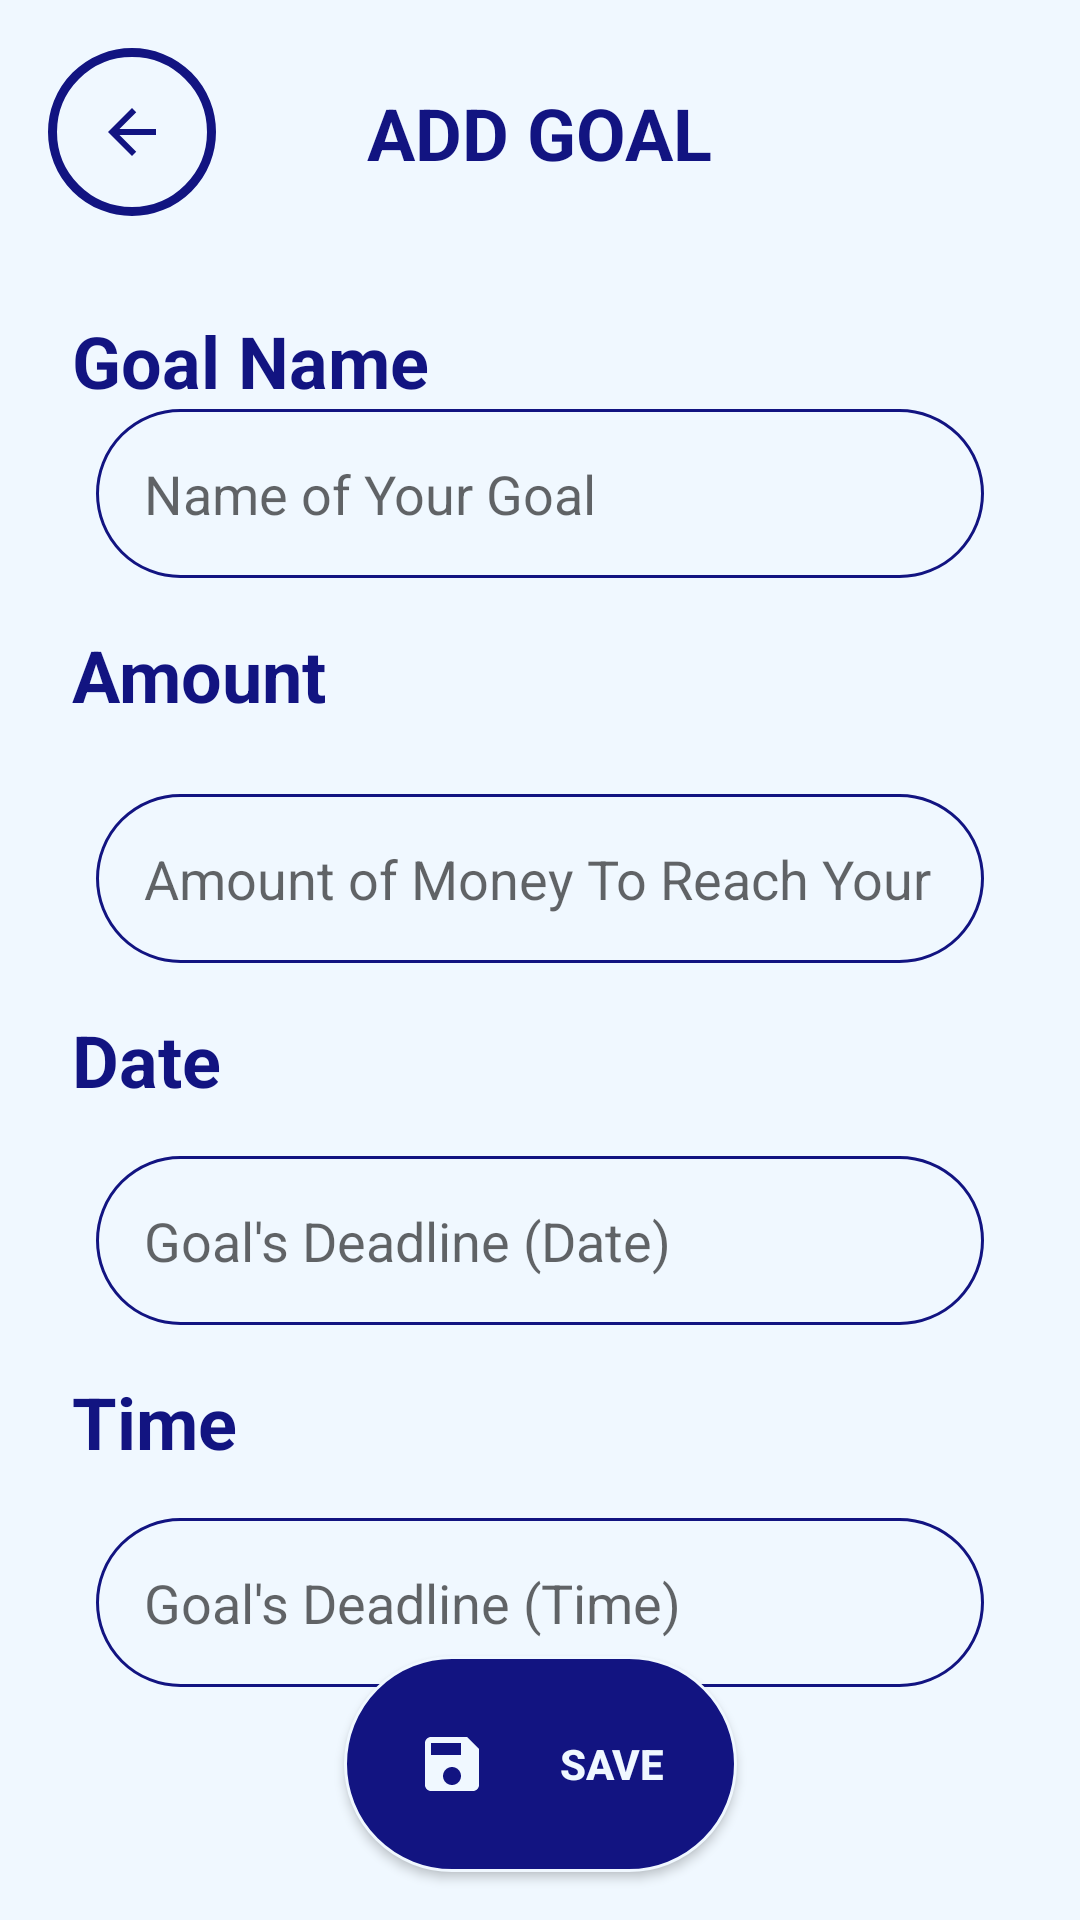

Named icons in this screenshot (1080px x 1920px) and their bounding boxes, (x1, y1, x2, y2):
Back Button: (48, 48, 216, 216)
